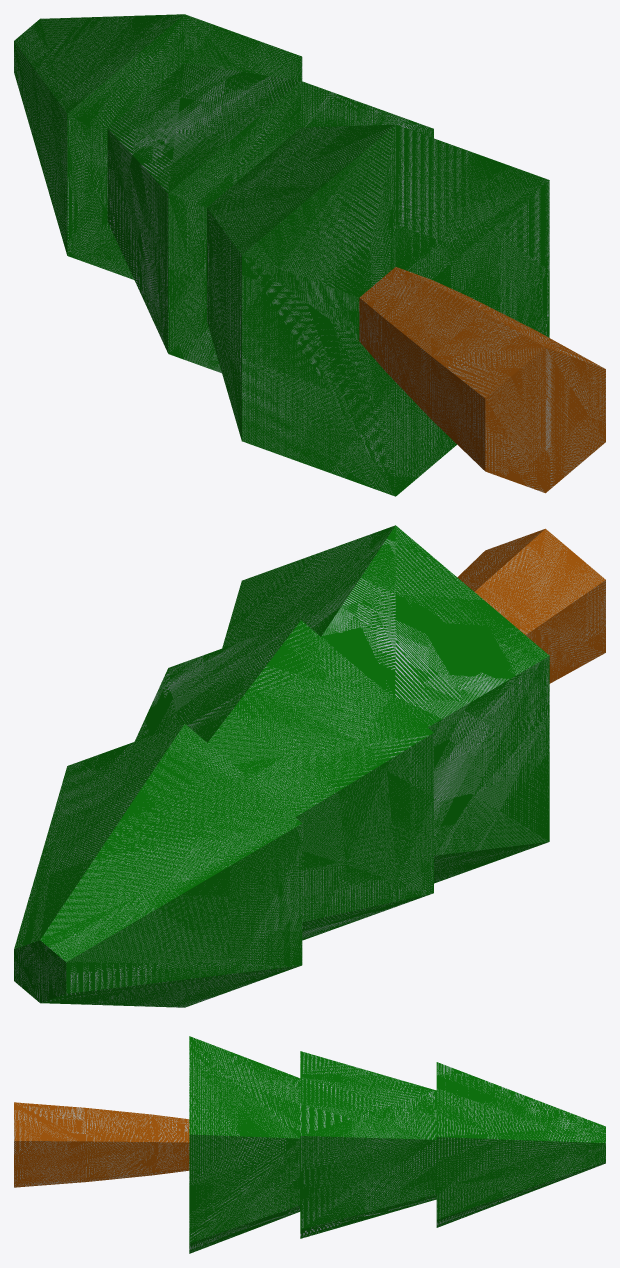
Rendered from Tree.dae.
3 views of the same model, one above another, from view 1: azimuth 30°, elevation 25°; view 2: azimuth 150°, elevation 25°; view 3: azimuth 270°, elevation 25° (orthographic). The views are drawn at different scales.
Parts seen in each view (by area): view 1: group_0 (×4); view 2: group_0 (×4); view 3: group_0 (×4).
Part boxes in pixels (x1=…): group_0 (×4): x1=14, y1=14, x2=605, y2=496; group_0 (×4): x1=14, y1=525, x2=605, y2=1007; group_0 (×4): x1=14, y1=1036, x2=605, y2=1253.
Size of the model in its own units: 3.85 by 10.96 by 4.45.
